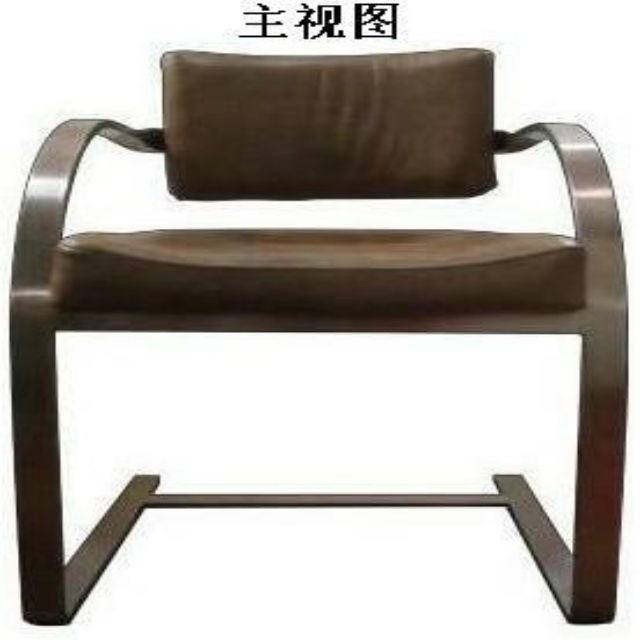obstacle: (9, 48, 626, 622)
